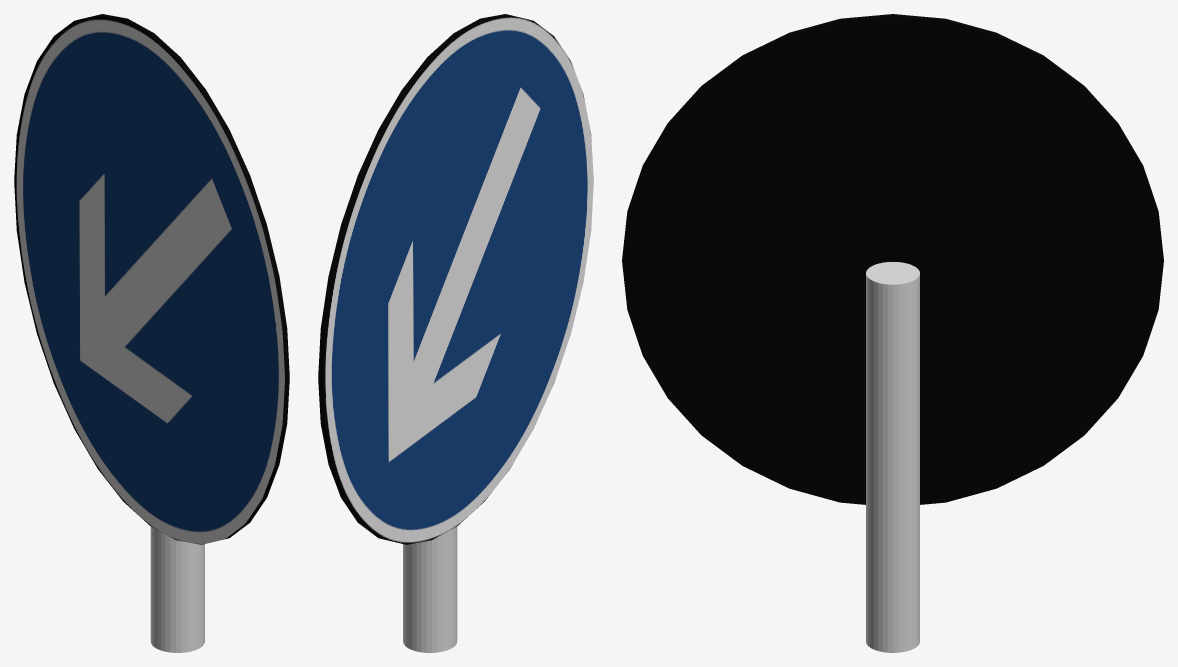
Rendered from pass_left_sign.dae.
The picture shows the model from 3 angles, left to right: view 1: azimuth 30°, elevation 25°; view 2: azimuth 150°, elevation 25°; view 3: azimuth 270°, elevation 25°; orthographic projection.
Visible parts, largest first — view 1: Circle, Cylinder; view 2: Circle, Cylinder; view 3: Circle, Cylinder.
Boxes of the visible parts, box(x1,y1,x2,y2) form: Circle: box(14, 14, 289, 544); Cylinder: box(150, 526, 204, 652); Circle: box(318, 14, 593, 544); Cylinder: box(403, 526, 457, 652); Circle: box(622, 14, 1163, 504); Cylinder: box(866, 262, 919, 652).
Bounding box in the file's own units: 0.011 × 0.1 × 0.125.
Materials: 3 (2 with a texture image).
